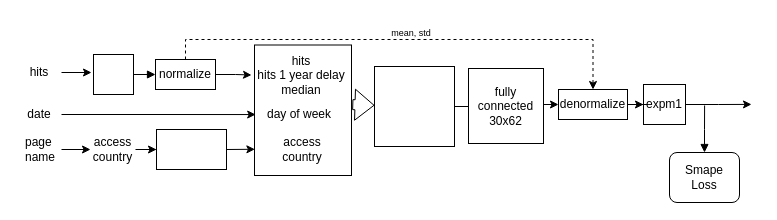
Some shapes in this 777 by 220 pixel diagram are drawn without their labels. The shapes that lost their labels are listed below. From the top down, each one's centre as x and y in pixels, then its label:
point (113, 74): log1p
point (414, 106): GRU 30 neurons 50 time steps
point (191, 149): one-hot encoding
